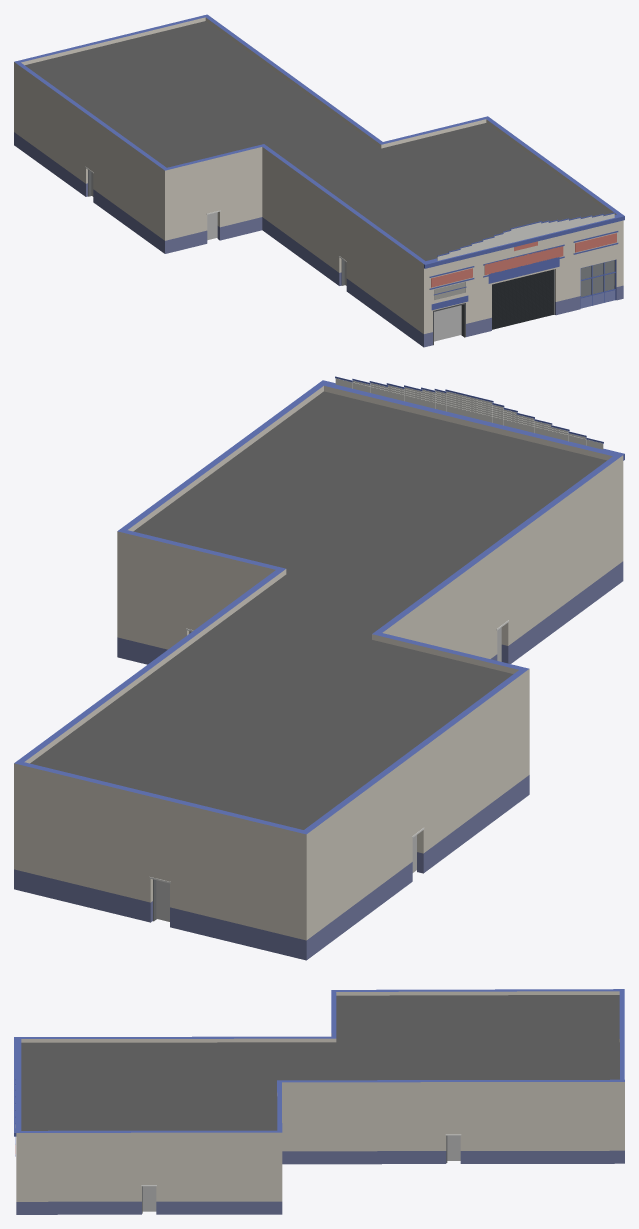
File: exterior.glb
3 renders of one model, top to bottom at view 1: azimuth 30°, elevation 25°; view 2: azimuth 150°, elevation 25°; view 3: azimuth 270°, elevation 25°, orthographic. The views are drawn at different scales.
Visible parts, largest first — view 1: roof, shell, relief-7, storefront, shadow-proxy, glazing; view 2: roof, shell, relief-7, shadow-proxy; view 3: shell, roof, shadow-proxy.
Boxes of the visible parts, left/top/right/bottom form: roof: left=25, top=21, right=609, bottom=260; shell: left=14, top=14, right=623, bottom=347; relief-7: left=424, top=212, right=624, bottom=310; storefront: left=85, top=166, right=616, bottom=345; shadow-proxy: left=91, top=172, right=613, bottom=341; glazing: left=581, top=260, right=614, bottom=296; roof: left=30, top=391, right=606, bottom=829; shell: left=14, top=381, right=623, bottom=960; relief-7: left=321, top=376, right=624, bottom=460; shadow-proxy: left=156, top=627, right=501, bottom=921; shell: left=16, top=989, right=624, bottom=1214; roof: left=21, top=995, right=619, bottom=1130; shadow-proxy: left=142, top=1135, right=460, bottom=1211.
Size of the model in its own units: 23.71 by 7.4 by 42.57.
